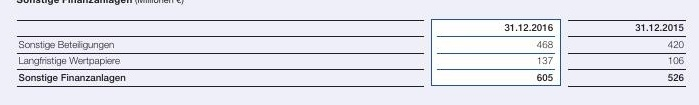table: (0, 0, 699, 105)
